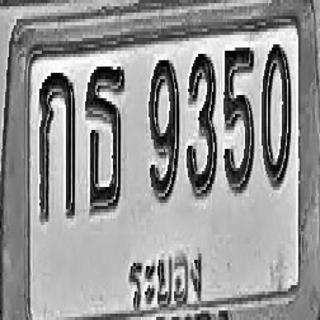A01: (39, 68, 76, 220)
A24: (84, 63, 125, 212)
N00: (261, 40, 292, 185)
N03: (186, 51, 216, 196)
N05: (224, 43, 254, 192)
N09: (148, 55, 179, 201)
P53: (123, 245, 207, 320)
